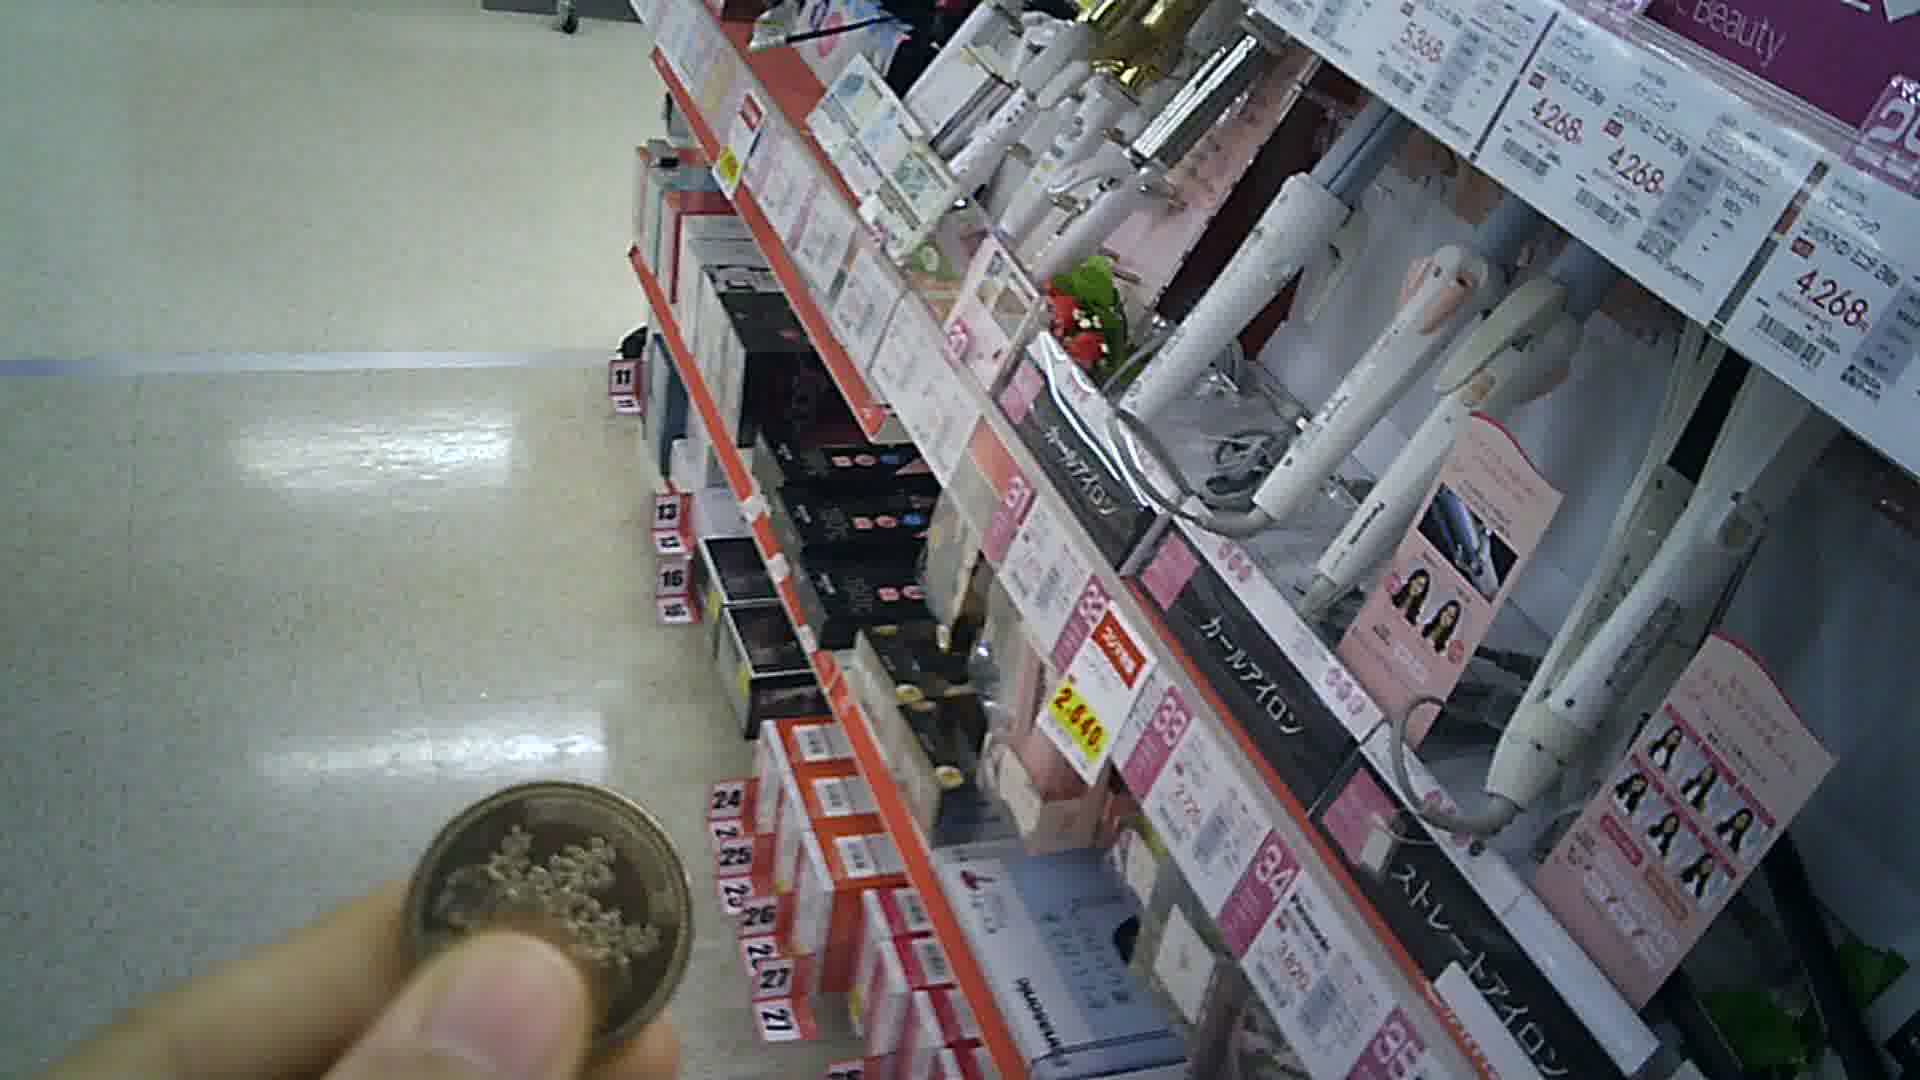500 Yen: (393, 769, 715, 1054)
